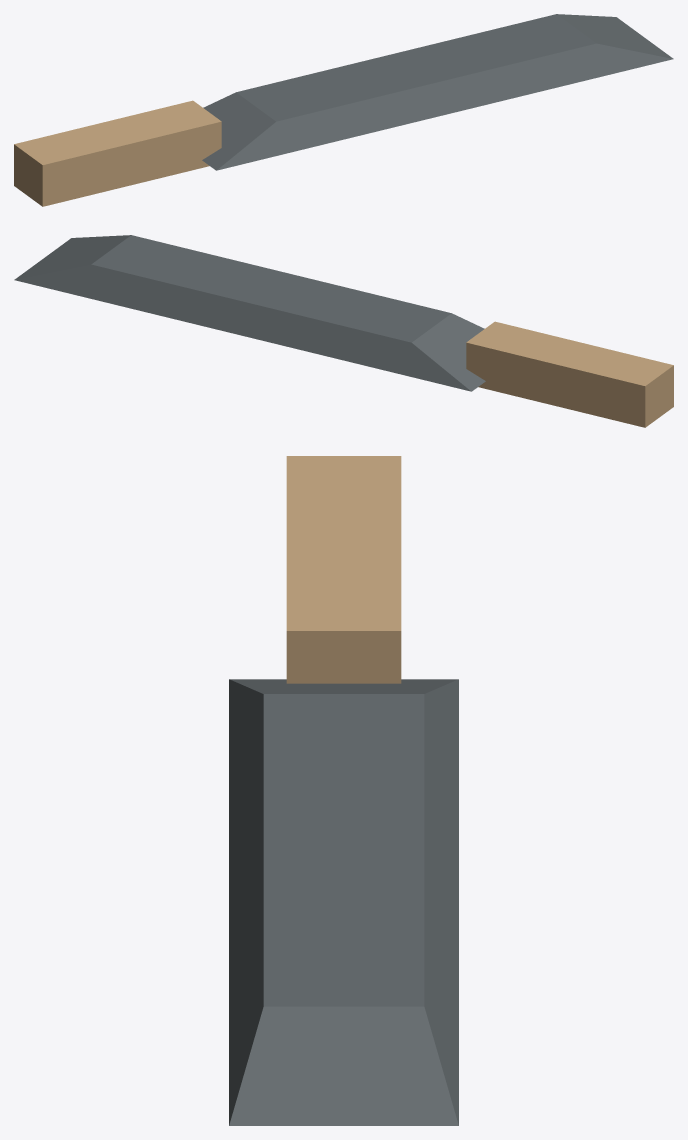
File: item_004_flint_blade_s.glb
The picture shows the model from 3 angles, top to bottom: view 1: azimuth 30°, elevation 25°; view 2: azimuth 150°, elevation 25°; view 3: azimuth 270°, elevation 25°; orthographic projection. The views are drawn at different scales.
Visible parts, largest first — view 1: item_004_flint_blade_s; view 2: item_004_flint_blade_s; view 3: item_004_flint_blade_s.
Boxes of the visible parts, <box> form: item_004_flint_blade_s: <box>14,14,673,206</box>; item_004_flint_blade_s: <box>14,235,673,427</box>; item_004_flint_blade_s: <box>229,456,458,1125</box>.
Size of the model in its own units: 0.62 by 0.04 by 0.1.
